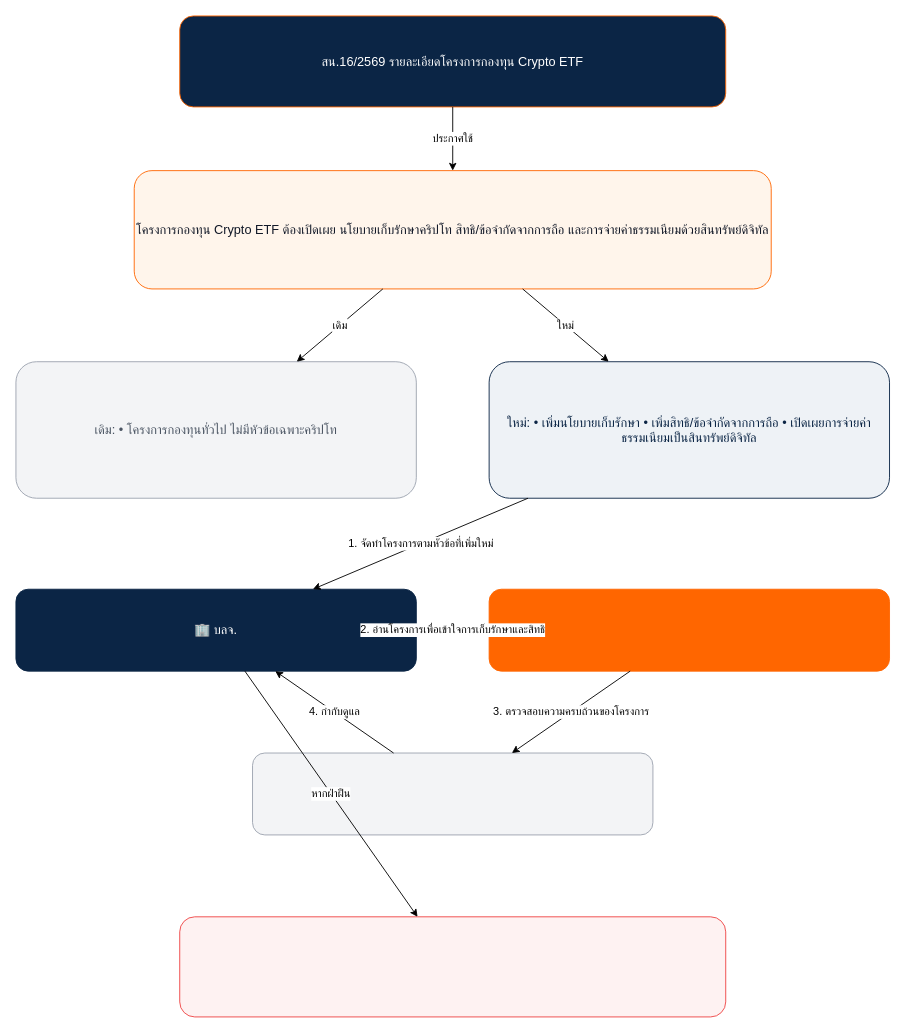
Image size: 905x1033. Some labels were removed from this diagram. The box of each missing label's shape, as (x1, y1, x2, y2) in pixels:
⚠️ ไม่มีโทษในตัวประกาศ โครงการไม่ครบถ้วนขัดเกณฑ์ ก.ล.ต.: (179, 916, 726, 1017)
🏛️ ก.ล.ต.: (252, 752, 653, 835)
👤 ผู้ถือหน่วยลงทุน: (488, 588, 890, 671)
